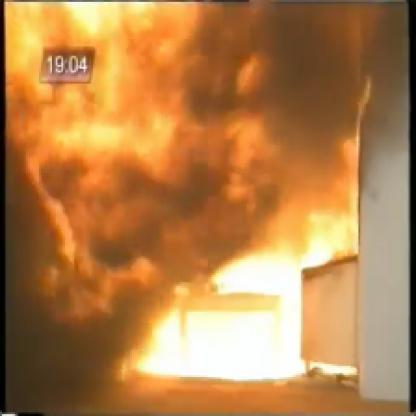fire: (7, 2, 198, 176), (129, 238, 342, 393), (247, 81, 386, 284)
